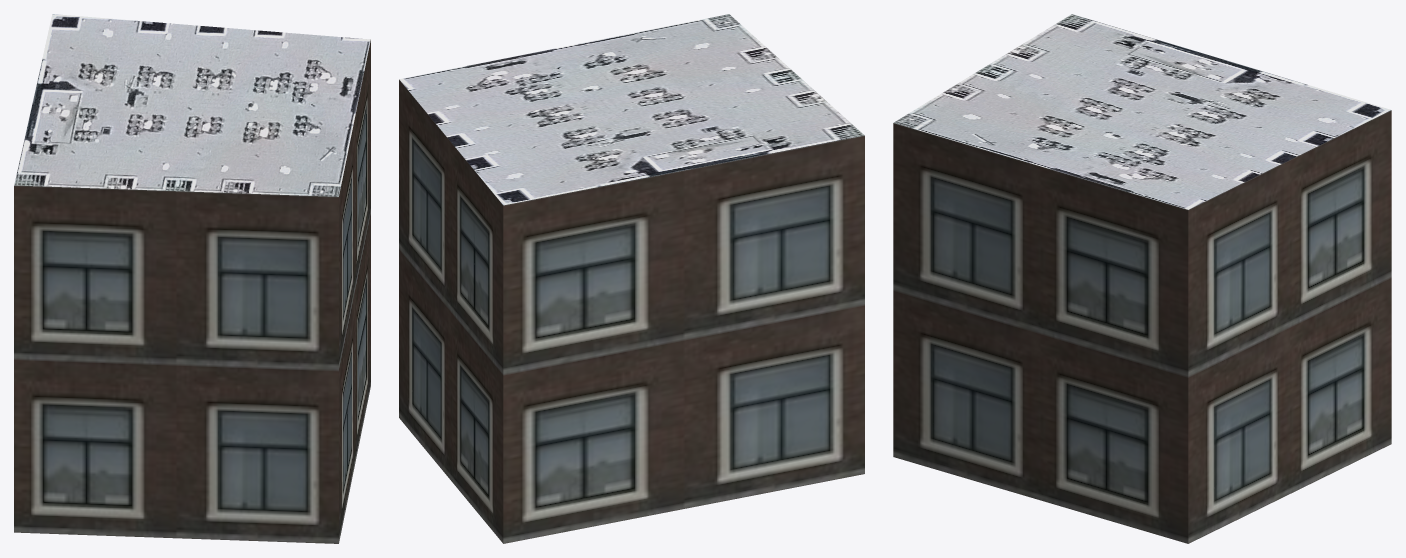
The model's file is ResTex__3456.fbx.
3 views of the same model, side by side, from view 1: azimuth 30°, elevation 25°; view 2: azimuth 150°, elevation 25°; view 3: azimuth 270°, elevation 25° (orthographic). The views are drawn at different scales.
Visible parts, largest first — view 1: CityEngineMaterial_16_m, CityEngineMaterial_15_m; view 2: CityEngineMaterial_16_m, CityEngineMaterial_15_m; view 3: CityEngineMaterial_16_m, CityEngineMaterial_15_m.
Part boxes in pixels (x1,y1,x2,y2): CityEngineMaterial_16_m: (14, 40, 370, 543); CityEngineMaterial_15_m: (14, 14, 370, 196); CityEngineMaterial_16_m: (399, 79, 864, 543); CityEngineMaterial_15_m: (399, 14, 864, 205); CityEngineMaterial_16_m: (893, 110, 1391, 543); CityEngineMaterial_15_m: (893, 14, 1391, 209).
Bounding box in the file's own units: 7.55 × 6 × 8.12.
2 materials, 2 textured.
